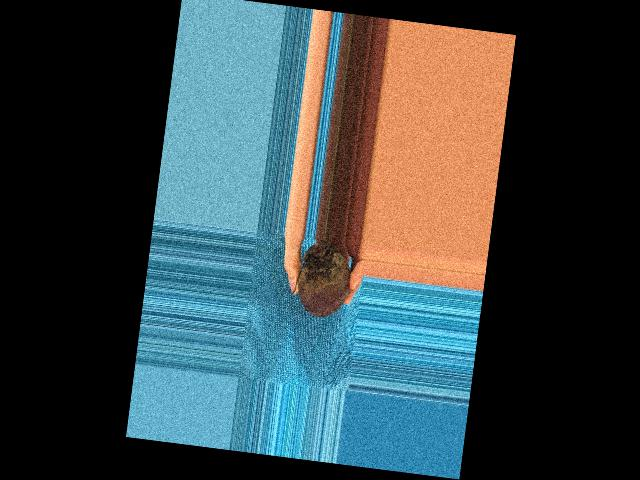beet: (287, 237, 354, 320)
